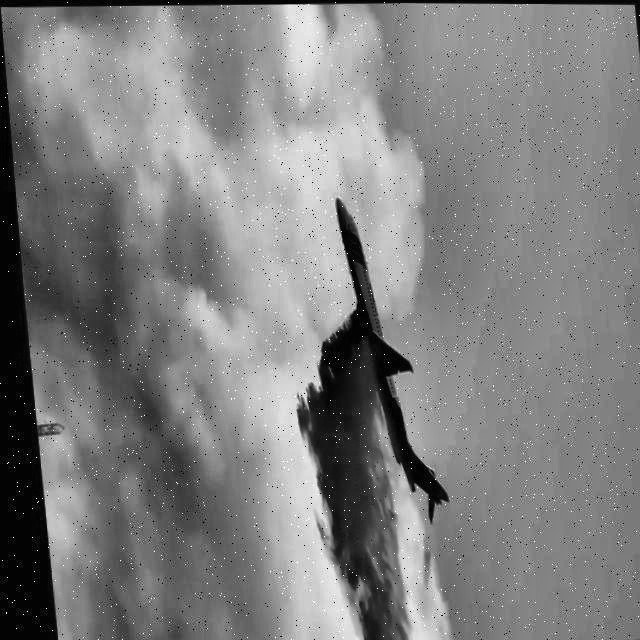Smoke: (0, 0, 319, 640)
